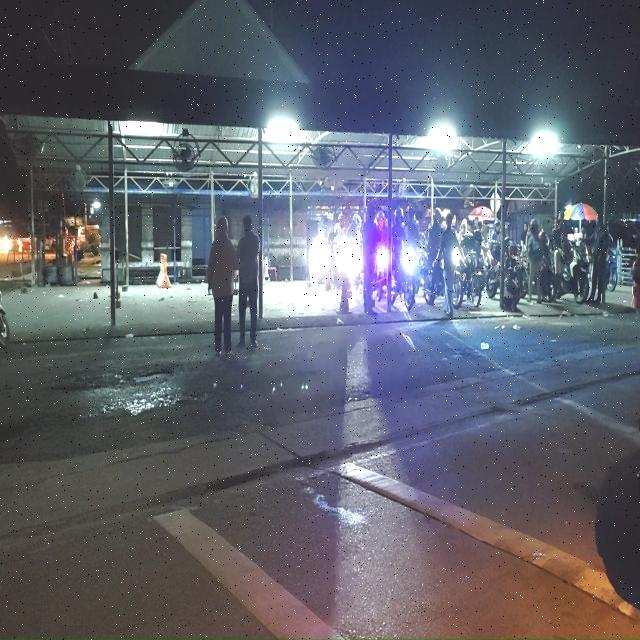Golongan II: (556, 242, 590, 304), (452, 248, 483, 309), (336, 239, 363, 291), (402, 247, 418, 311), (372, 245, 389, 302), (486, 241, 500, 299), (606, 249, 618, 291)
